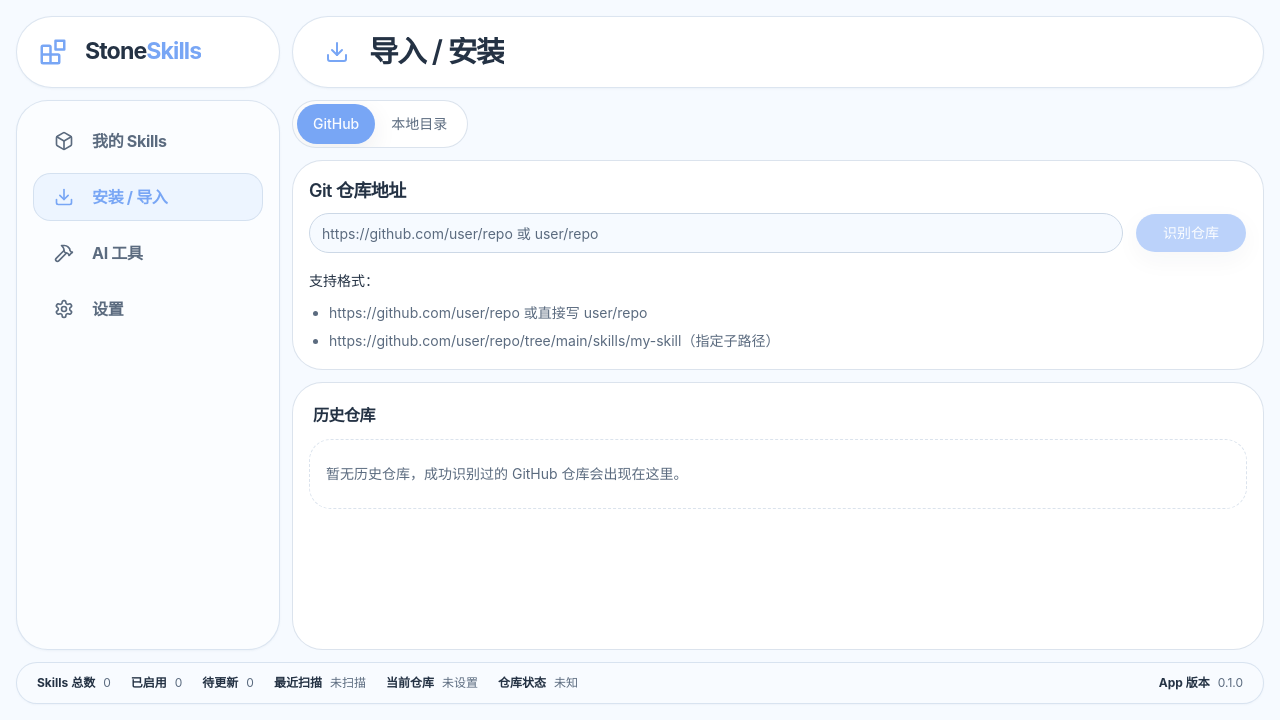
Test case: InstallPage › GitHub 识别失败时不会写入历史记录
Type "https://github.com/example/missing" into the field with placeholder "https://github.com/user/repo 或 user/repo" at point(716, 233), box [309, 213, 1123, 253]
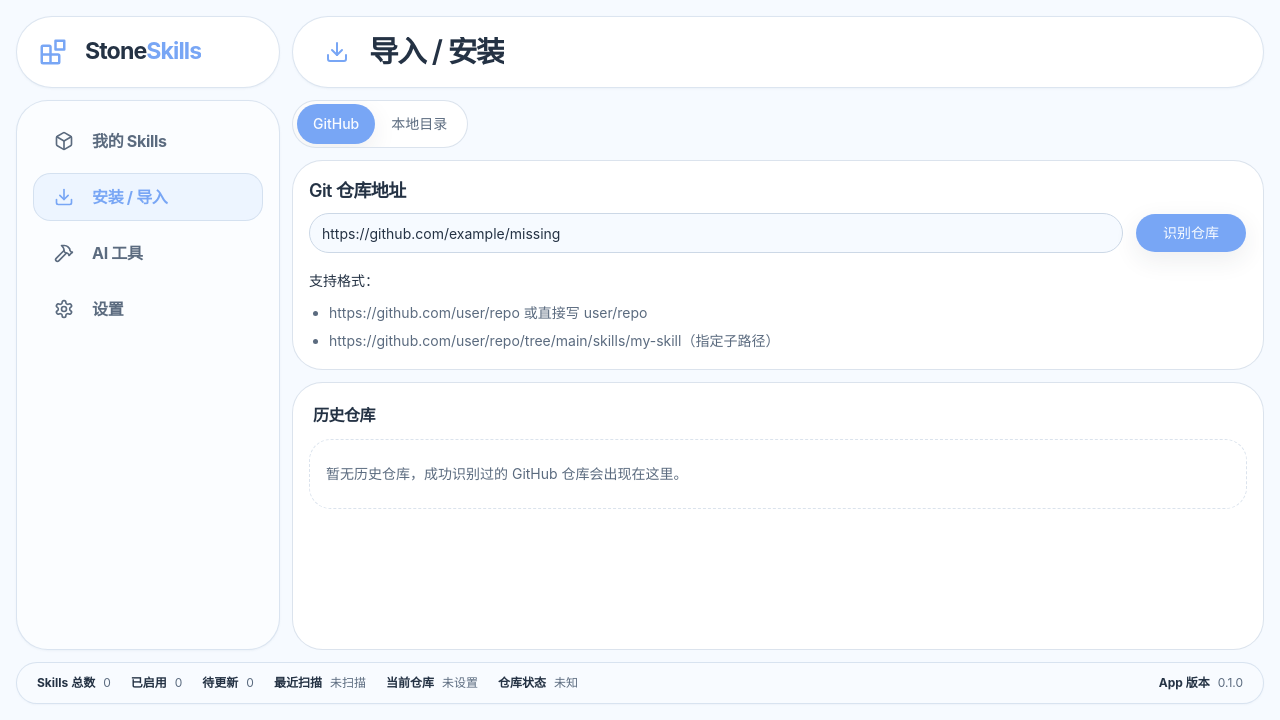
Click the button "识别仓库" at point(1191, 233), box [1135, 213, 1247, 253]
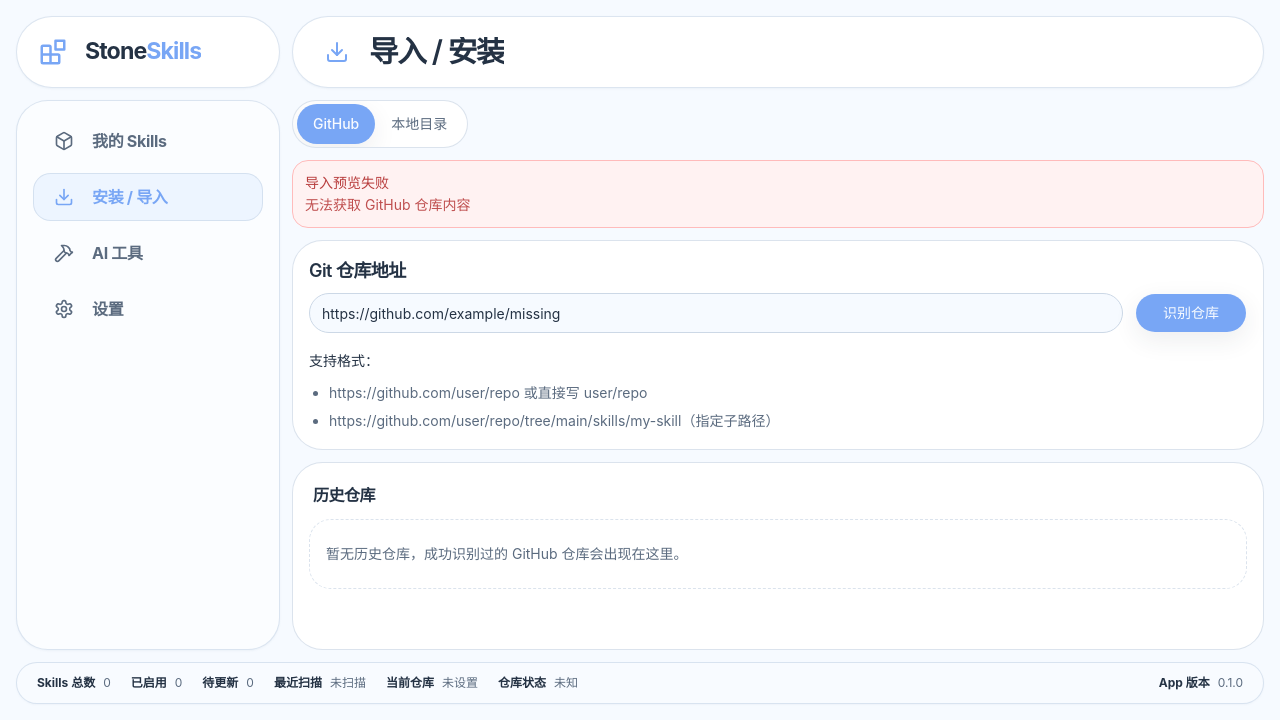
Check: the text "导入预览失败" is shown, box [305, 174, 389, 191]
